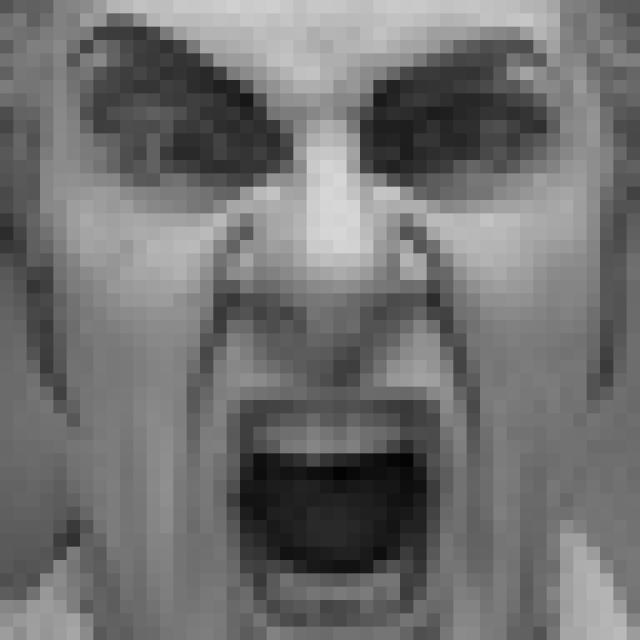angry: (73, 19, 562, 640)
